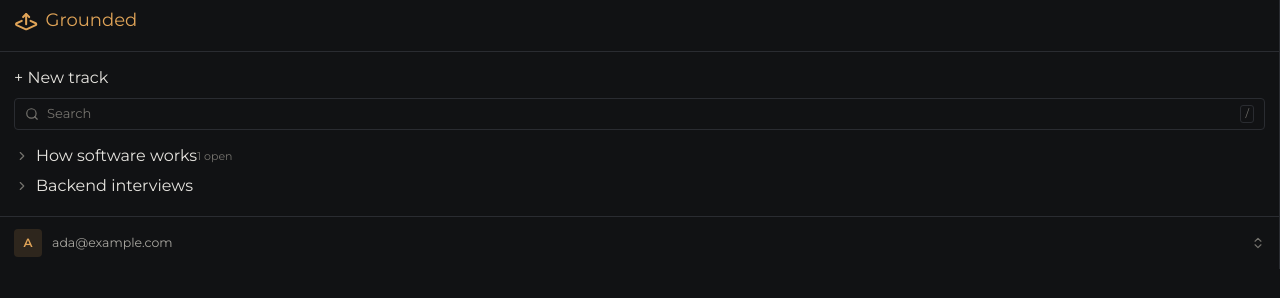
Test: searching the track list › is reached with /, filters live, opens the first find with Enter, and clears with Escape
The image size is (1280, 298).
Type keys "/"
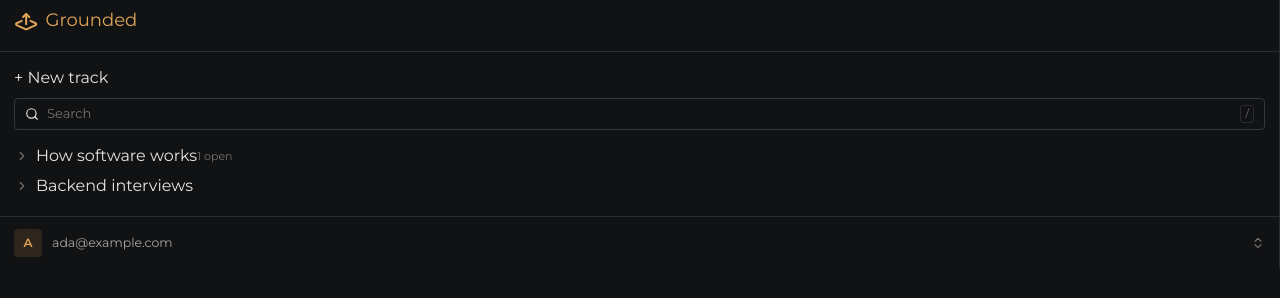
Type keys "memory"
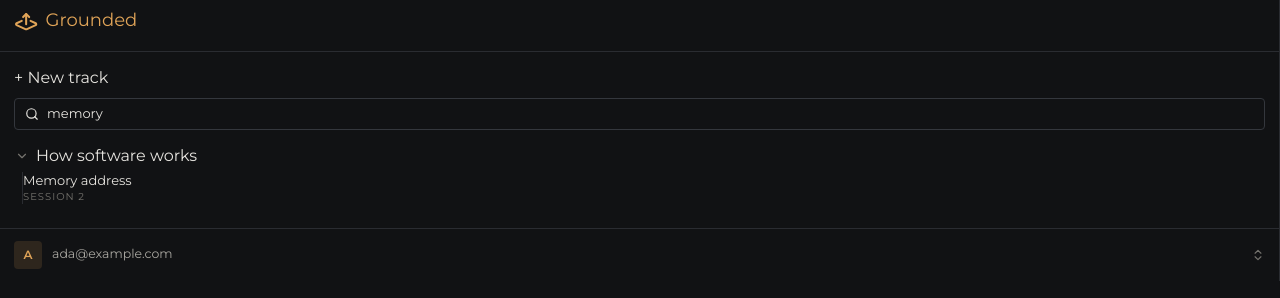
Expected: the link "Backend interviews" is gone
Expected: the links read "Memory addressSession 2", in this order, [23,172,132,203]
Press Enter
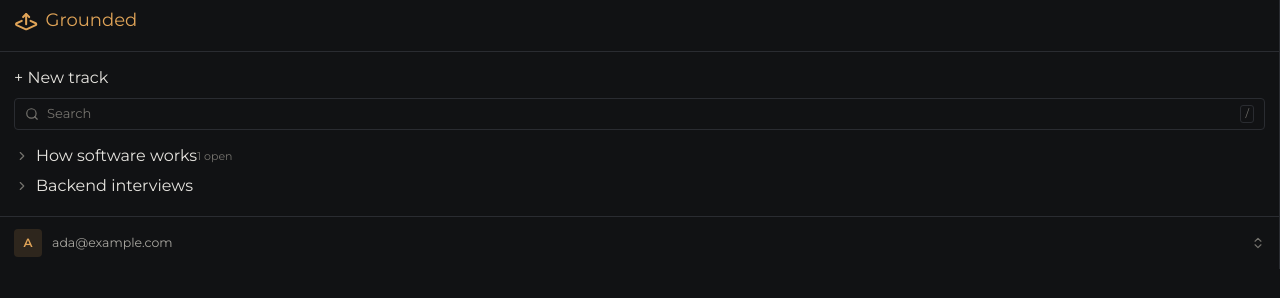
Expected: the search field named "Search tracks and lessons" is empty
Type "nothing like it" into the search field named "Search tracks and lessons" at [640, 114], box [47,104,1232,124]
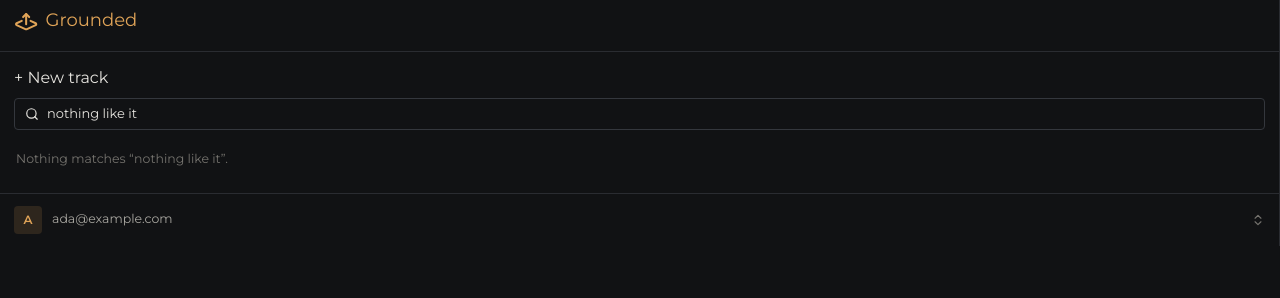
Expected: the text "Nothing matches “nothing like it”." is shown, [16,151,228,166]
Press Escape
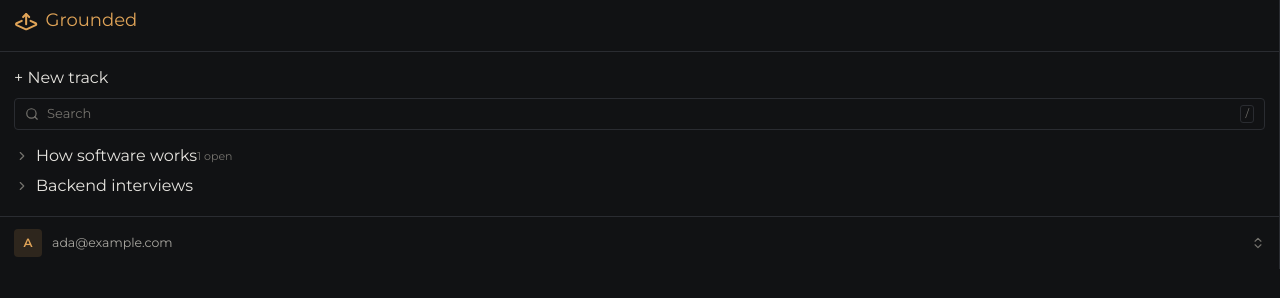
Expected: the search field named "Search tracks and lessons" is empty, [47,104,1232,124]
Expected: the link "Backend interviews" is shown, [36,174,193,198]
